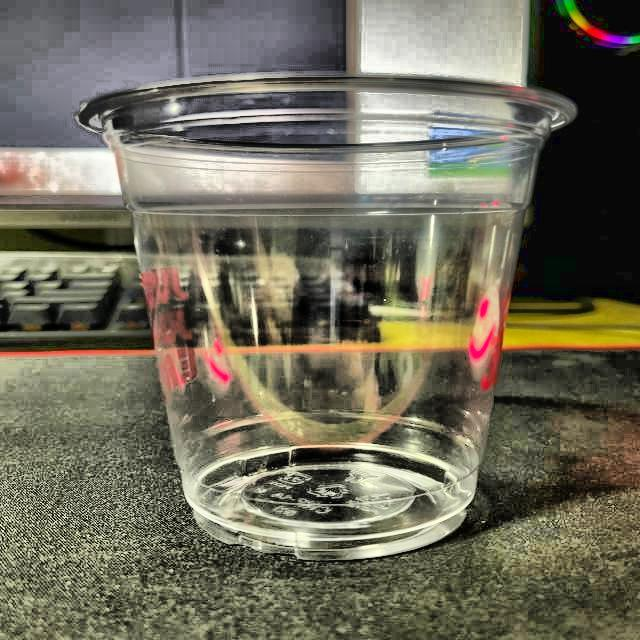plastic cup: (71, 68, 584, 562)
